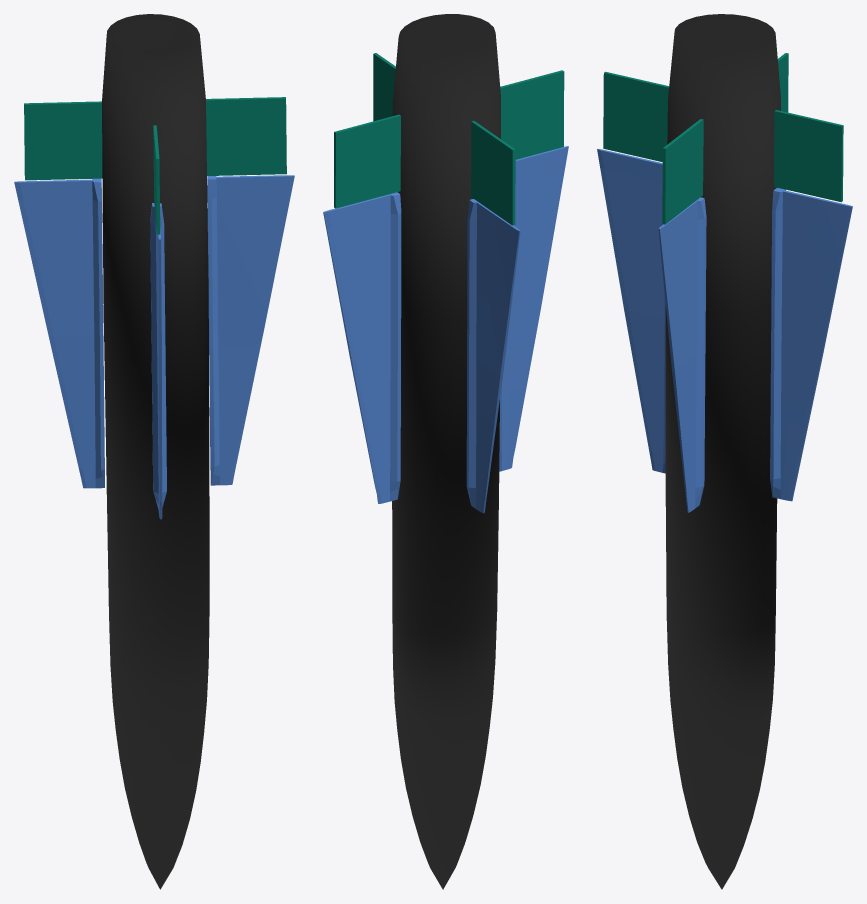
File: rocket.obj
The picture shows the model from 3 angles, left to right: view 1: azimuth 30°, elevation 25°; view 2: azimuth 150°, elevation 25°; view 3: azimuth 270°, elevation 25°; orthographic projection.
Parts seen in each view (by area): view 1: body, wing04, wing02, WingC, WingB, WingD; view 2: body, wing, wing02, wing04, WingA, WingD, WingB, WingC; view 3: body, wing04, wing, WingA, WingD, WingC, WingB.
Boxes of the visible parts, left/top/right/bottom form: body: left=102, top=14, right=209, bottom=889; wing04: left=150, top=175, right=294, bottom=519; wing02: left=14, top=178, right=104, bottom=488; WingC: left=206, top=97, right=286, bottom=175; WingB: left=24, top=101, right=102, bottom=180; WingD: left=153, top=125, right=160, bottom=234; body: left=392, top=14, right=500, bottom=889; wing: left=323, top=192, right=401, bottom=503; wing02: left=466, top=199, right=520, bottom=513; wing04: left=499, top=146, right=568, bottom=471; WingA: left=334, top=114, right=400, bottom=208; WingD: left=500, top=70, right=564, bottom=159; WingB: left=471, top=121, right=515, bottom=225; WingC: left=373, top=53, right=395, bottom=121; body: left=665, top=14, right=780, bottom=889; wing04: left=597, top=149, right=706, bottom=512; wing: left=770, top=187, right=852, bottom=501; WingA: left=774, top=110, right=843, bottom=202; WingD: left=603, top=71, right=669, bottom=161; WingC: left=662, top=119, right=703, bottom=224; WingB: left=777, top=53, right=788, bottom=112.
Bounding box in the file's own units: 1.76 × 6.67 × 1.81.
